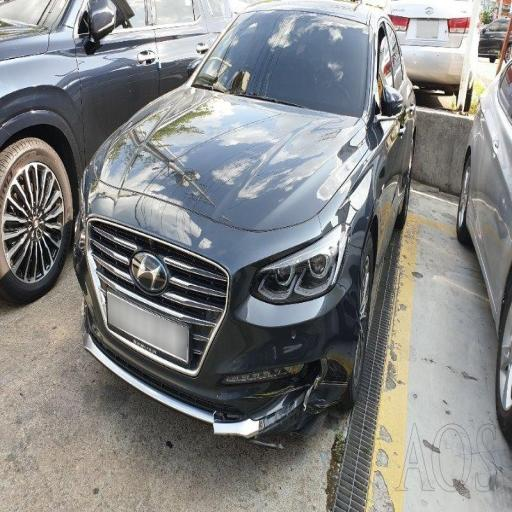broken: (234, 338, 357, 430)
